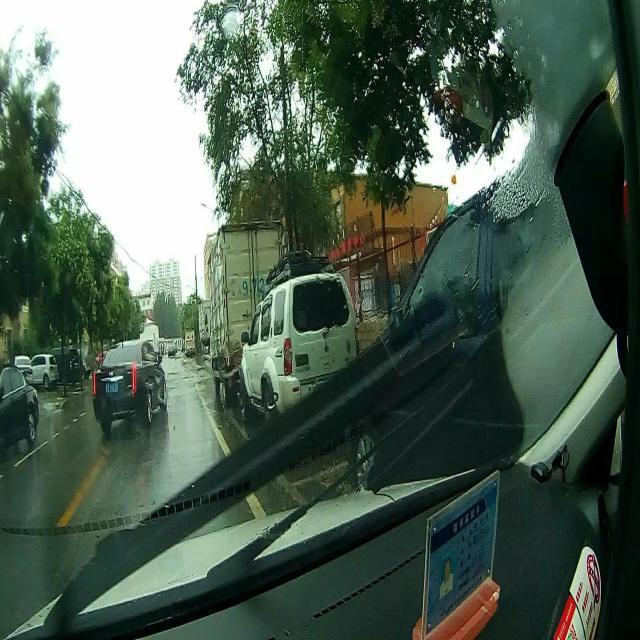car: (352, 176, 628, 498), (240, 258, 358, 424), (92, 340, 167, 430), (0, 364, 38, 442), (48, 346, 84, 383), (28, 353, 59, 387), (13, 354, 34, 387), (168, 343, 176, 356)
